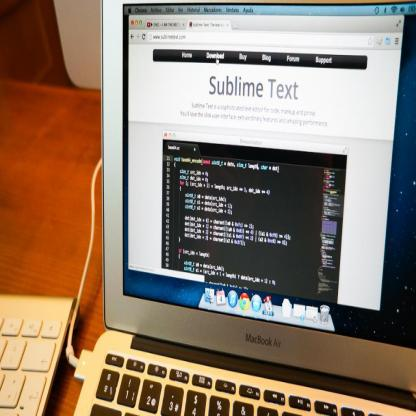board: (84, 0, 412, 416)
